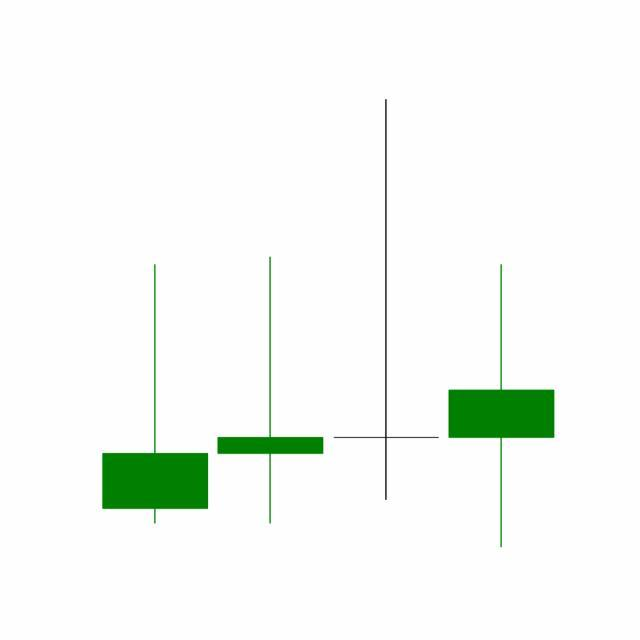Gravestone Doji: (329, 95, 445, 505)
